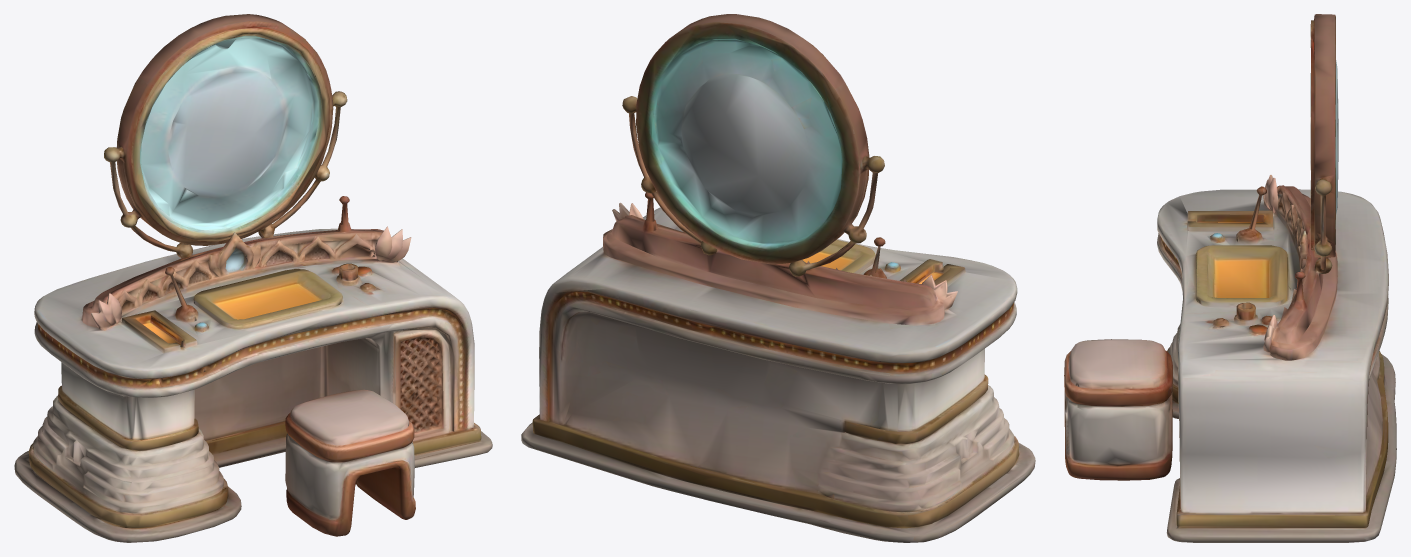
Rendered from research_station.glb.
3 views of the same model, side by side, from view 1: azimuth 30°, elevation 25°; view 2: azimuth 150°, elevation 25°; view 3: azimuth 270°, elevation 25° (orthographic). The views are drawn at different scales.
Parts seen in each view (by area): view 1: node_0; view 2: node_0; view 3: node_0.
Part boxes in pixels (x1,y1,x2,y2): node_0: (14, 14, 492, 542); node_0: (521, 14, 1035, 542); node_0: (1064, 14, 1396, 542).
Size of the model in its own units: 2.34 by 2.4 by 1.71.
Materials: 1 (1 with a texture image).
